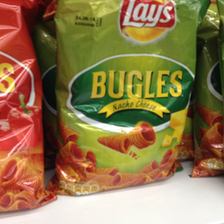chips: (51, 1, 197, 193), (1, 2, 56, 213)
